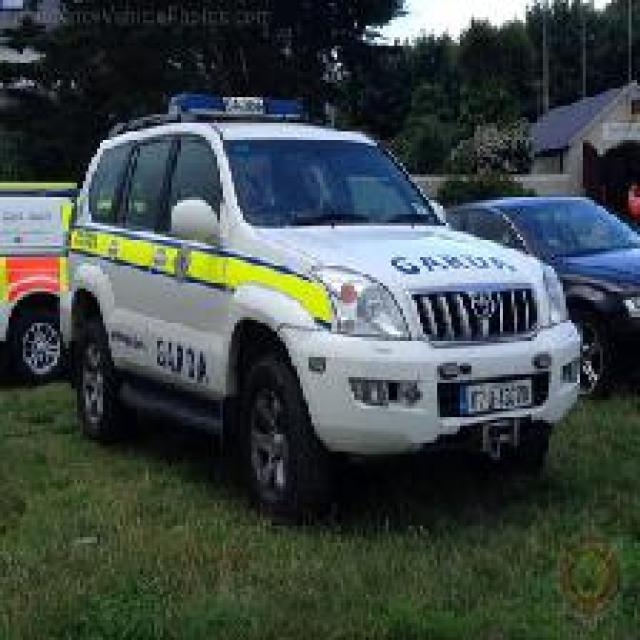emergency: (60, 92, 588, 524)
